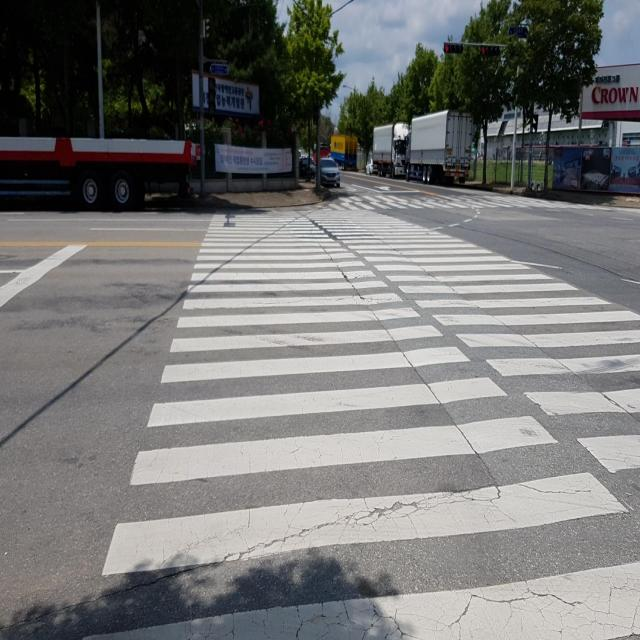횡단보도: (100, 212, 640, 640), (328, 192, 561, 210)
